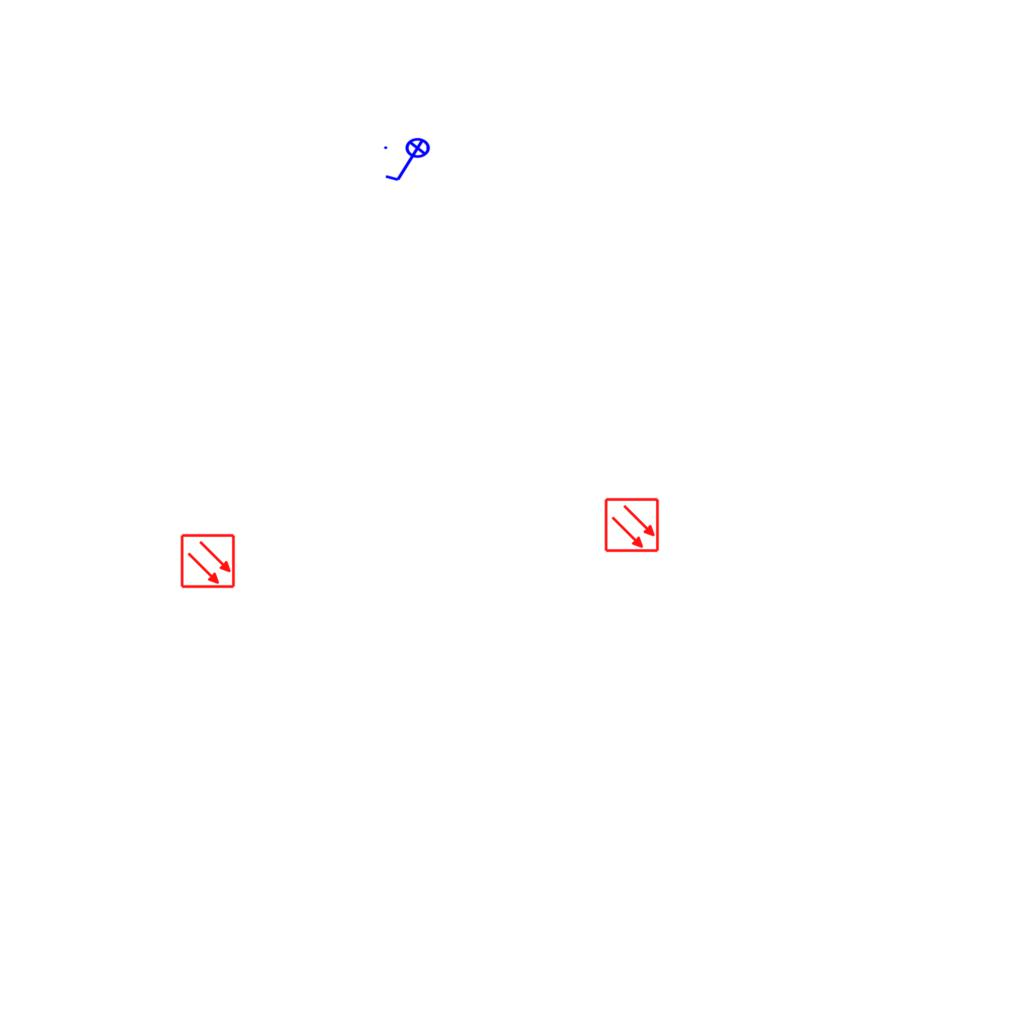Ausschalter_beleuchtet: (381, 137, 437, 185)
RMO_Rauchmelder_optischer: (604, 497, 660, 553), (180, 533, 236, 589)
